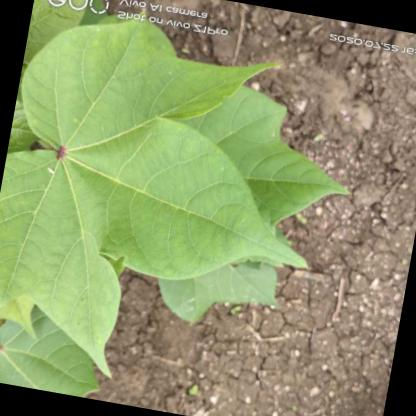cotton: (0, 1, 376, 415)
